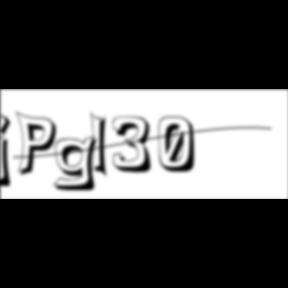0: (158, 115, 204, 174)
3: (113, 116, 159, 176)
I: (90, 110, 114, 182)
P: (15, 110, 62, 180)
g: (53, 134, 105, 194)
j: (0, 113, 18, 191)
